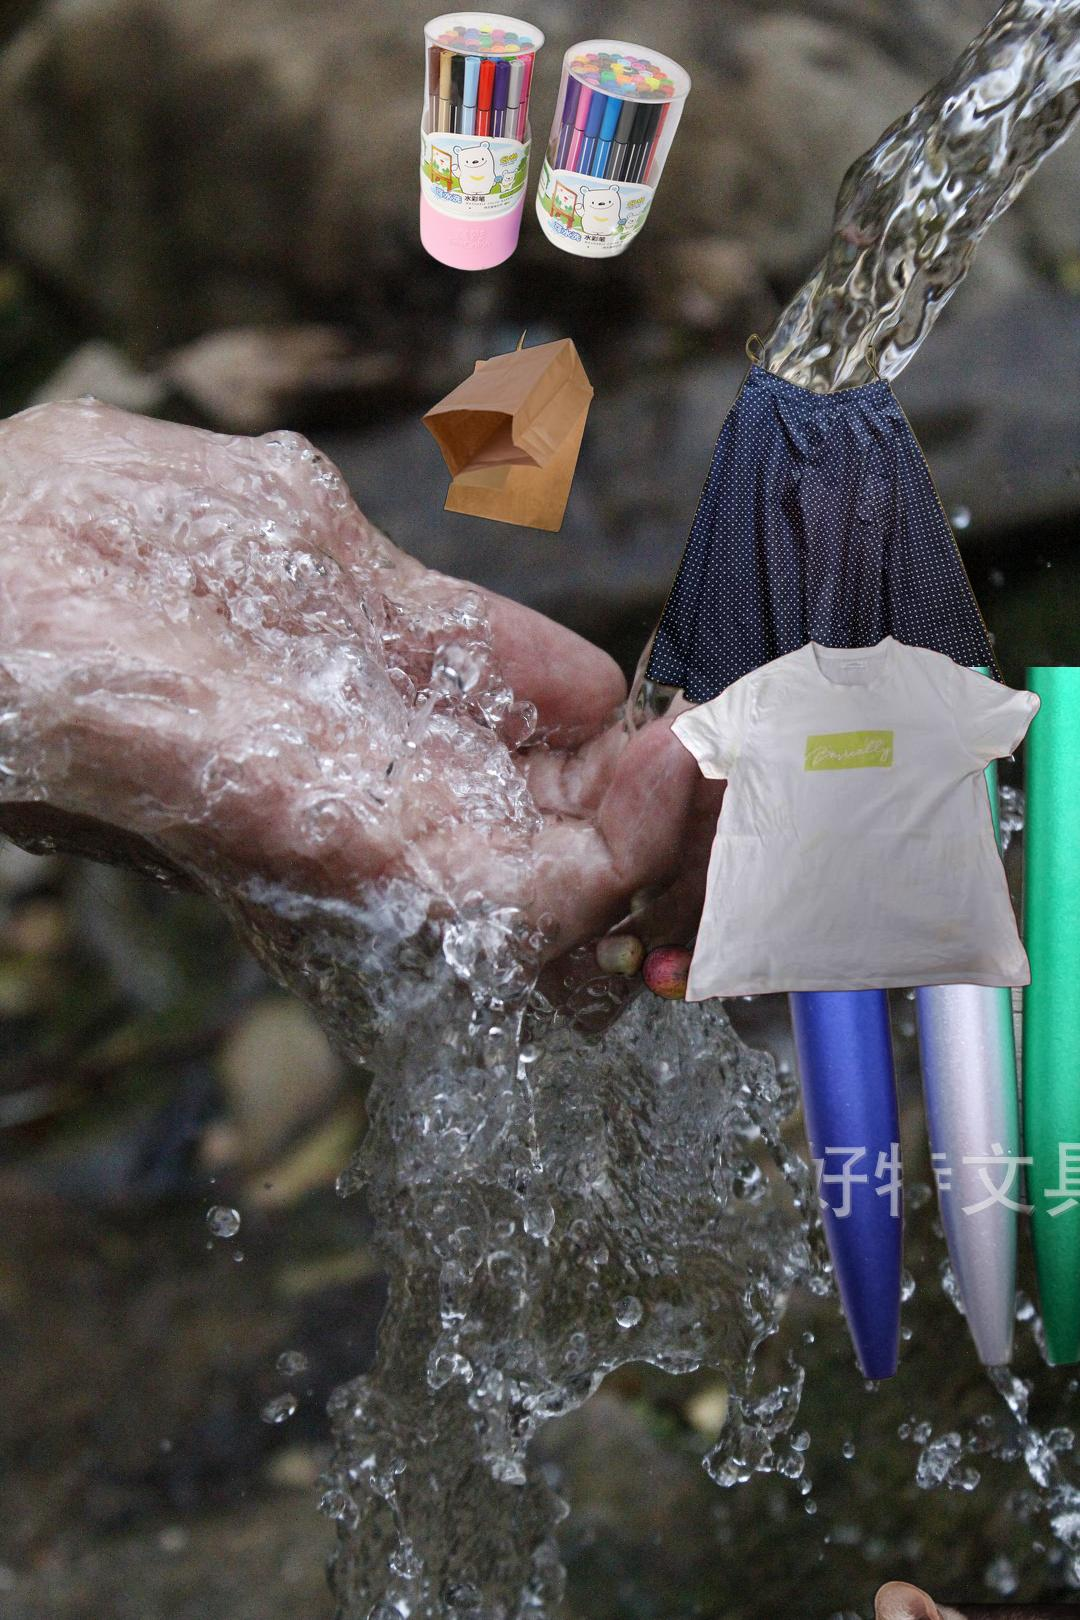biological: (553, 852, 732, 1028)
clothes: (640, 328, 1011, 735), (668, 630, 1045, 1008)
paper-bag: (417, 327, 598, 536)
penholder: (738, 667, 1080, 1396), (417, 8, 693, 309)
trashbox-cardboard: (800, 1577, 1080, 1620)
